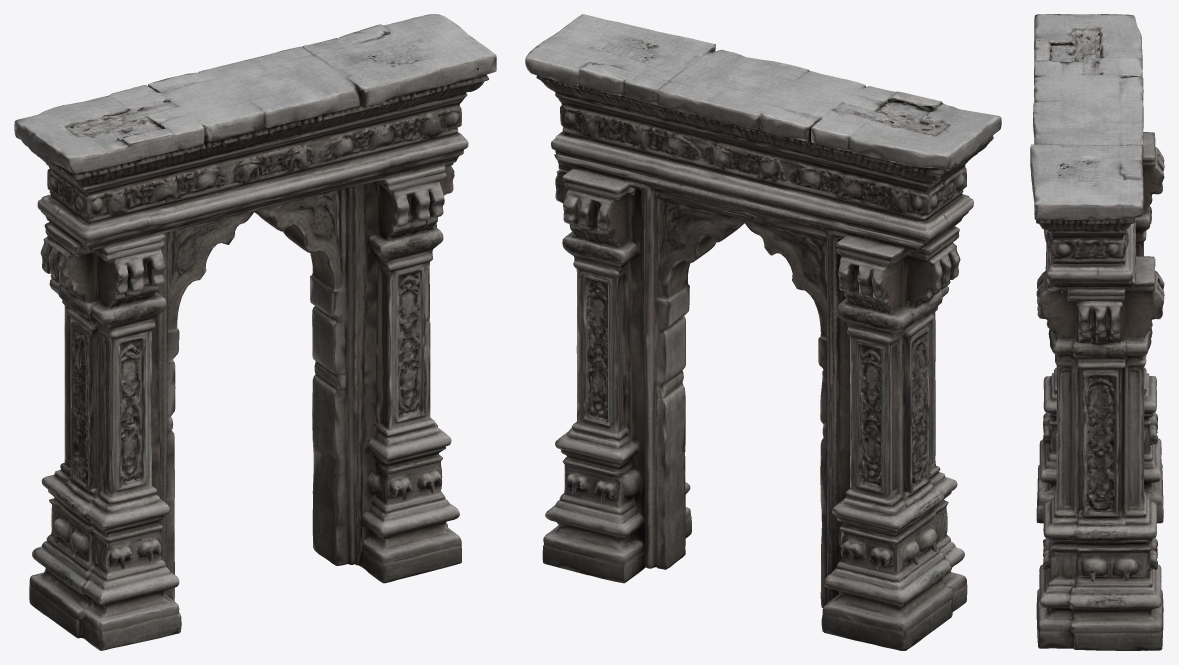
File: carved-wooden-door-frame-modular-section-optimized.glb
3 views of the same model, side by side, from view 1: azimuth 30°, elevation 25°; view 2: azimuth 150°, elevation 25°; view 3: azimuth 270°, elevation 25° (orthographic). The views are drawn at different scales.
Visible parts, largest first — view 1: world; view 2: world; view 3: world.
Boxes of the visible parts, x1,y1,x2,y2 form: world: [14, 14, 496, 650]; world: [525, 14, 1001, 650]; world: [1030, 14, 1164, 650].
Bounding box in the file's own units: 2.23 × 2.5 × 0.6607.
Materials: 1 (1 with a texture image).
